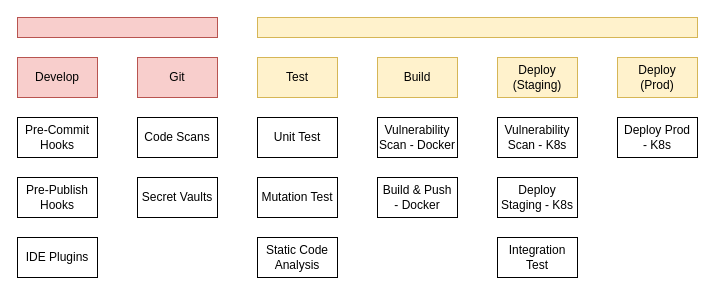
This 715x295 diagram has some shape labels left out. The centre of each missing label's shape, as x and y in pixels:
"CICD Process" goes at (477,27).
"Development Stage" goes at (117,27).
